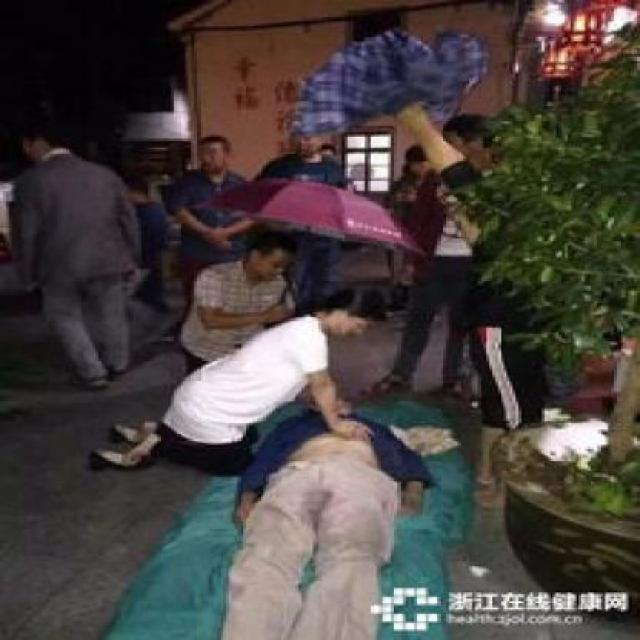fall: (71, 376, 484, 638)
